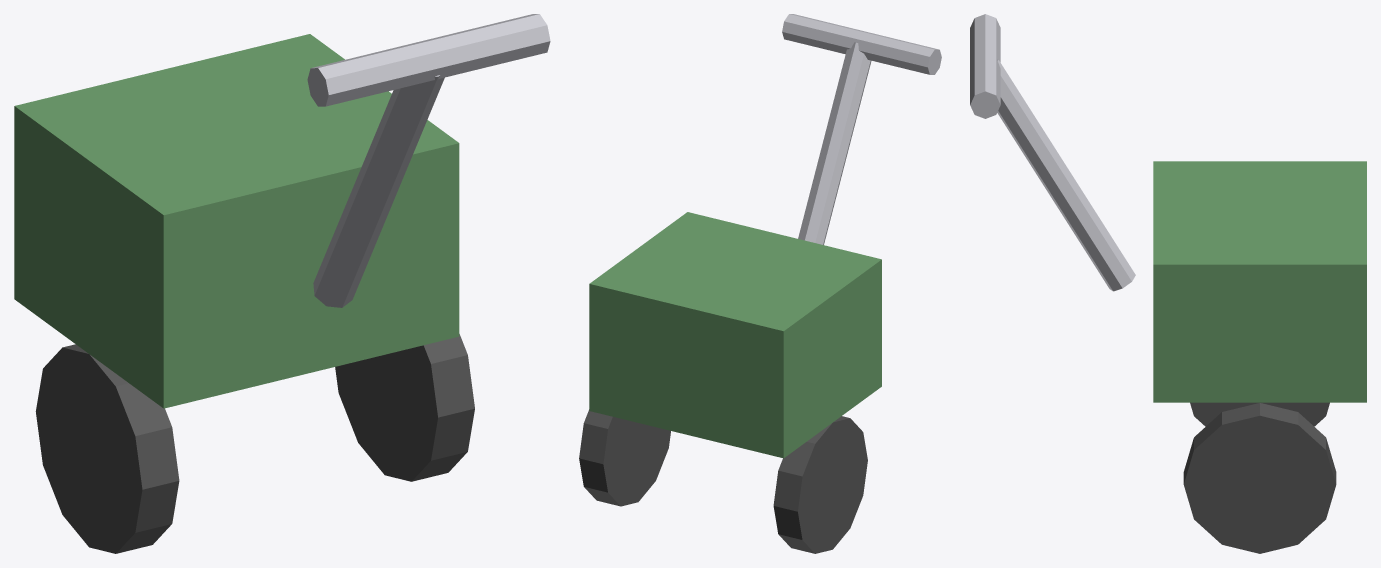
Rendered from spreader.glb.
3 renders of one model, left to right at view 1: azimuth 30°, elevation 25°; view 2: azimuth 150°, elevation 25°; view 3: azimuth 270°, elevation 25°, orthographic. The views are drawn at different scales.
Visible parts, largest first — view 1: Spreader; view 2: Spreader; view 3: Spreader.
Part boxes in pixels (x1,y1,x2,y2): Spreader: (14,14,550,553); Spreader: (579,14,941,553); Spreader: (970,14,1366,553).
Size of the model in its own units: 0.18 by 0.3159 by 0.26.
